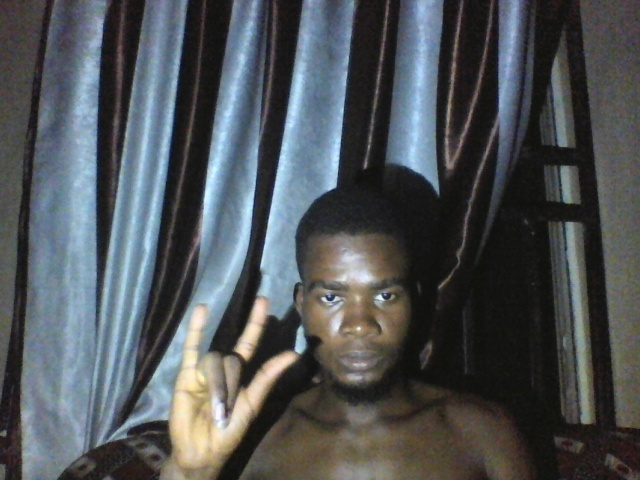i love you: (162, 290, 301, 474)
